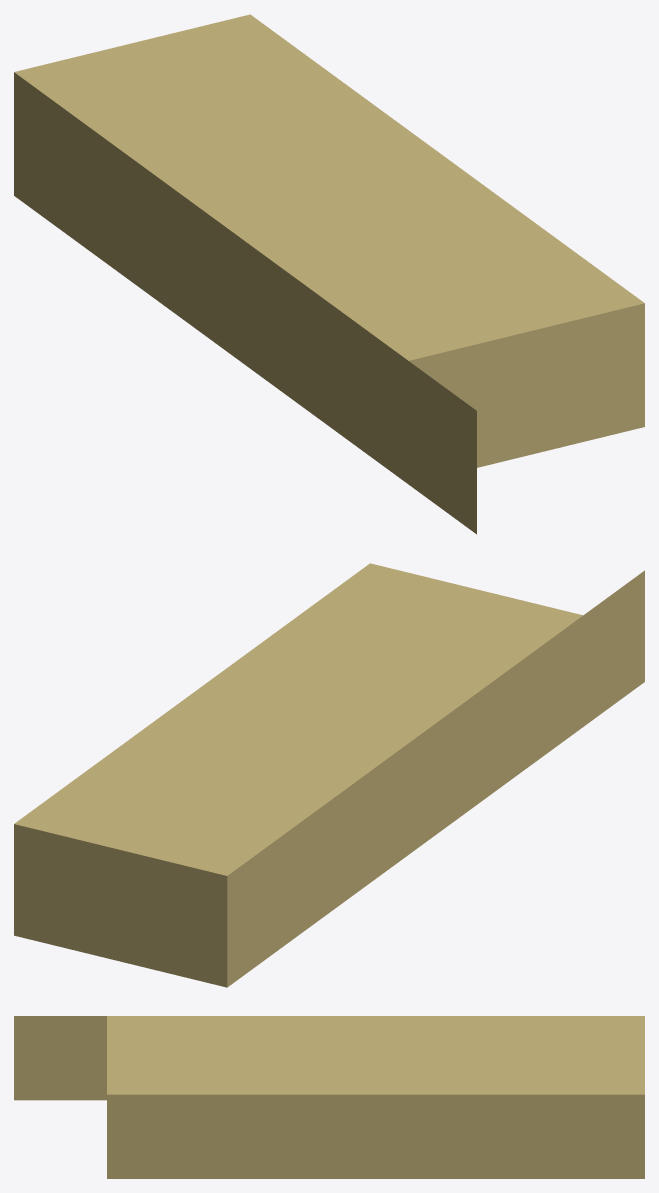
The picture shows the model from 3 angles, top to bottom: view 1: azimuth 30°, elevation 25°; view 2: azimuth 150°, elevation 25°; view 3: azimuth 270°, elevation 25°; orthographic projection. The views are drawn at different scales.
Visible parts, largest first — view 1: RUN-021-S02-NOG-00; view 2: RUN-021-S02-NOG-00; view 3: RUN-021-S02-NOG-00.
Boxes of the visible parts, x1,y1,x2,y2 form: RUN-021-S02-NOG-00: (14, 14, 644, 534); RUN-021-S02-NOG-00: (14, 563, 644, 987); RUN-021-S02-NOG-00: (14, 1016, 644, 1178).
Bounding box in the file's own units: 0.09 × 0.045 × 0.3052.
